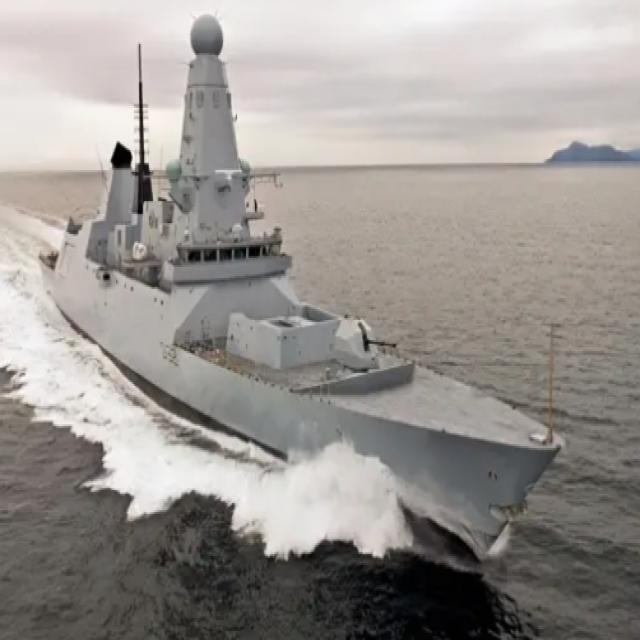navalvessels: (38, 16, 570, 559)
